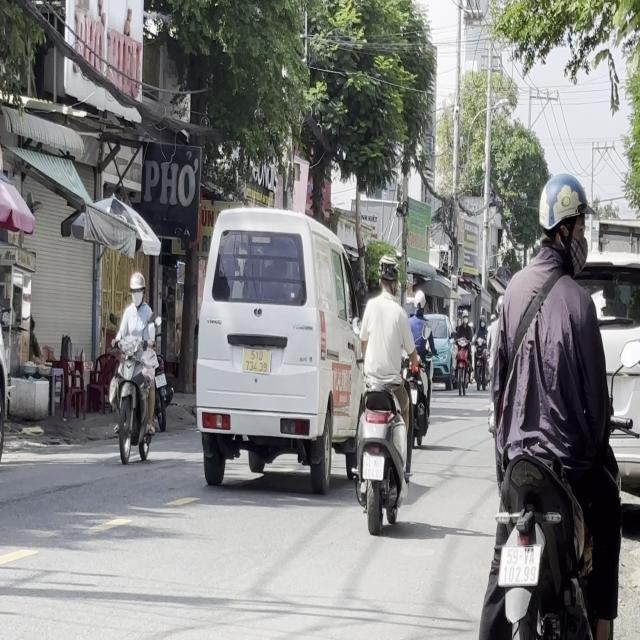helmet: (537, 171, 589, 261), (376, 254, 399, 296), (129, 270, 145, 304)
licenseplate: (474, 166, 634, 634), (350, 252, 415, 532), (108, 269, 158, 464)
nohelmet: (499, 544, 539, 585), (363, 454, 384, 479)
